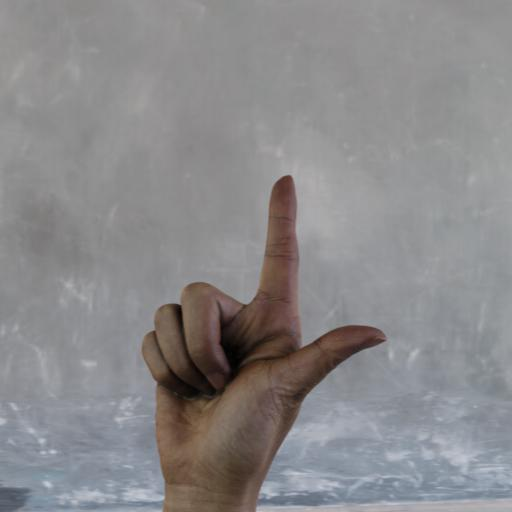L: (134, 169, 392, 496)
